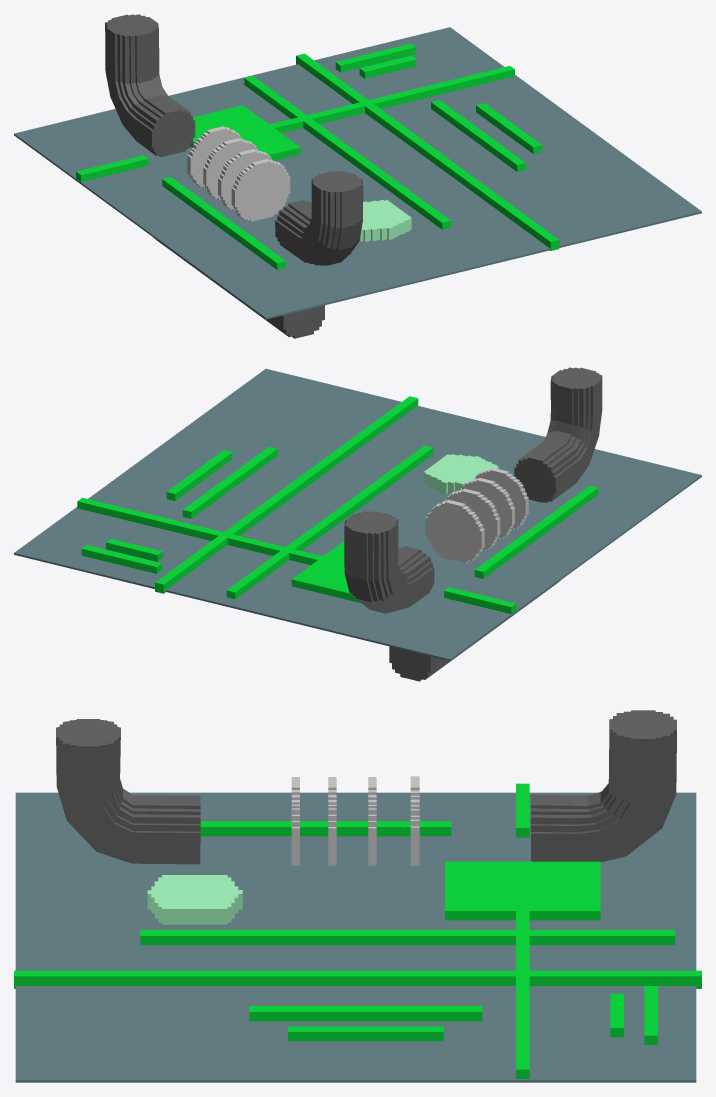
Rendered from Floor.fbx.
The picture shows the model from 3 angles, top to bottom: view 1: azimuth 30°, elevation 25°; view 2: azimuth 150°, elevation 25°; view 3: azimuth 270°, elevation 25°; orthographic projection. The views are drawn at different scales.
Visible parts, largest first — view 1: Ceiling, Turn Pipe, Turn Pipe.001, Rings.003, Cube.012, Cube.022, Cube.019, Cube.014, Cube.013, Cube.009, Cube.018, Cube.021 (+11 smaller); view 2: Ceiling, Turn Pipe.001, Turn Pipe, Rings.001, Cube.019, Cube.012, Cube.014, Cube.013, Cube.009, Cube.010, Cube.011, Cube.018 (+11 smaller); view 3: Ceiling, Turn Pipe, Turn Pipe.001, Cube.012, Cube.014, Cube.010, Cube.009, Cube.013, Cube.018, Cube.019, Cube.004, Cube.021 (+9 smaller).
Boxes of the visible parts, x1,y1,x2,y2 form: Ceiling: [14, 27, 701, 319]; Turn Pipe: [105, 14, 195, 157]; Turn Pipe.001: [275, 171, 363, 265]; Rings.003: [231, 159, 290, 221]; Cube.012: [190, 105, 300, 160]; Cube.022: [311, 66, 514, 123]; Cube.019: [162, 177, 285, 269]; Cube.014: [296, 53, 419, 145]; Cube.013: [244, 76, 367, 161]; Cube.009: [327, 139, 450, 229]; Cube.018: [431, 100, 525, 171]; Cube.021: [435, 158, 559, 250]; Ceiling: [14, 368, 701, 660]; Turn Pipe.001: [514, 367, 602, 502]; Turn Pipe: [344, 511, 434, 613]; Rings.001: [425, 499, 484, 563]; Cube.019: [474, 486, 598, 578]; Cube.012: [291, 541, 361, 603]; Cube.014: [155, 498, 278, 593]; Cube.013: [226, 506, 349, 599]; Cube.009: [318, 445, 433, 538]; Cube.010: [270, 430, 371, 510]; Cube.011: [123, 513, 327, 565]; Cube.018: [182, 447, 277, 518]; Ceiling: [15, 792, 696, 1082]; Turn Pipe: [531, 710, 676, 862]; Turn Pipe.001: [56, 719, 200, 864]; Cube.012: [445, 861, 600, 920]; Cube.014: [391, 970, 701, 988]; Cube.010: [140, 970, 451, 985]; Cube.009: [140, 930, 451, 945]; Cube.013: [364, 930, 675, 945]; Cube.018: [249, 1006, 482, 1021]; Cube.019: [200, 821, 451, 836]; Cube.004: [162, 875, 227, 924]; Cube.021: [14, 970, 324, 988].
Bounding box in the file's own units: 10000 × 4066 × 10109.
